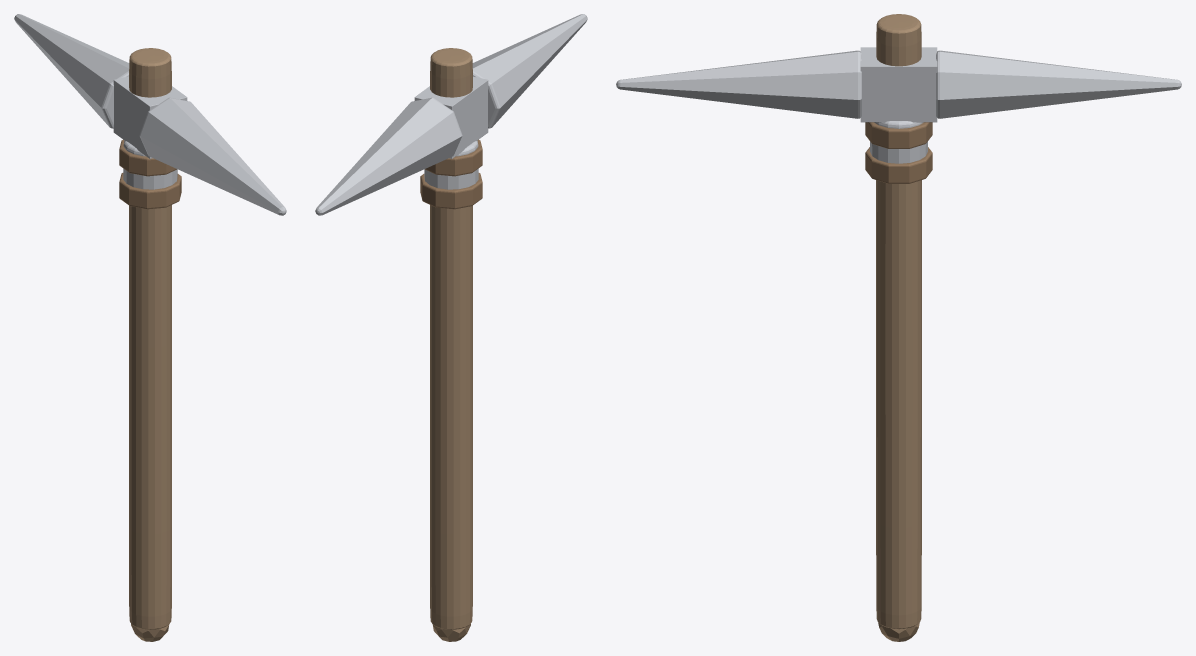
The model's file is 13-Herramientas_pico_hierro.glb.
3 views of the same model, side by side, from view 1: azimuth 30°, elevation 25°; view 2: azimuth 150°, elevation 25°; view 3: azimuth 270°, elevation 25° (orthographic). The views are drawn at different scales.
Visible parts, largest first — view 1: SM_PicoHierro_Mango, SM_PicoHierro_Punta_B, SM_PicoHierro_Punta_A, SM_PicoHierro_BloqueCabeza, SM_PicoHierro_Atadura_2, SM_PicoHierro_Atadura_1, SM_PicoHierro_Cuello, SM_PicoHierro_Pomo; view 2: SM_PicoHierro_Mango, SM_PicoHierro_Punta_A, SM_PicoHierro_Punta_B, SM_PicoHierro_BloqueCabeza, SM_PicoHierro_Atadura_2, SM_PicoHierro_Atadura_1, SM_PicoHierro_Cuello, SM_PicoHierro_Pomo; view 3: SM_PicoHierro_Mango, SM_PicoHierro_Punta_A, SM_PicoHierro_Punta_B, SM_PicoHierro_BloqueCabeza, SM_PicoHierro_Atadura_2, SM_PicoHierro_Atadura_1, SM_PicoHierro_Cuello.
Part boxes in pixels (bbox=[...]): SM_PicoHierro_Mango: bbox=[129, 48, 171, 629]; SM_PicoHierro_Punta_B: bbox=[139, 97, 286, 215]; SM_PicoHierro_Punta_A: bbox=[14, 14, 129, 128]; SM_PicoHierro_BloqueCabeza: bbox=[113, 76, 187, 158]; SM_PicoHierro_Atadura_2: bbox=[119, 173, 181, 209]; SM_PicoHierro_Atadura_1: bbox=[119, 139, 176, 176]; SM_PicoHierro_Cuello: bbox=[123, 140, 177, 189]; SM_PicoHierro_Pomo: bbox=[131, 623, 169, 641]; SM_PicoHierro_Mango: bbox=[430, 48, 472, 629]; SM_PicoHierro_Punta_A: bbox=[315, 97, 462, 215]; SM_PicoHierro_Punta_B: bbox=[472, 14, 587, 128]; SM_PicoHierro_BloqueCabeza: bbox=[414, 76, 488, 158]; SM_PicoHierro_Atadura_2: bbox=[420, 173, 482, 209]; SM_PicoHierro_Atadura_1: bbox=[425, 139, 482, 176]; SM_PicoHierro_Cuello: bbox=[424, 140, 478, 189]; SM_PicoHierro_Pomo: bbox=[432, 623, 470, 641]; SM_PicoHierro_Mango: bbox=[876, 14, 921, 629]; SM_PicoHierro_Punta_A: bbox=[936, 50, 1181, 118]; SM_PicoHierro_Punta_B: bbox=[616, 50, 861, 118]; SM_PicoHierro_BloqueCabeza: bbox=[860, 47, 937, 122]; SM_PicoHierro_Atadura_2: bbox=[865, 147, 932, 183]; SM_PicoHierro_Atadura_1: bbox=[865, 122, 932, 148]; SM_PicoHierro_Cuello: bbox=[870, 121, 927, 163].
Bounding box in the file's own units: 0.0946 × 0.8873 × 0.736.
